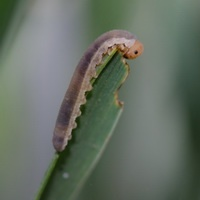insect: (53, 30, 142, 151)
